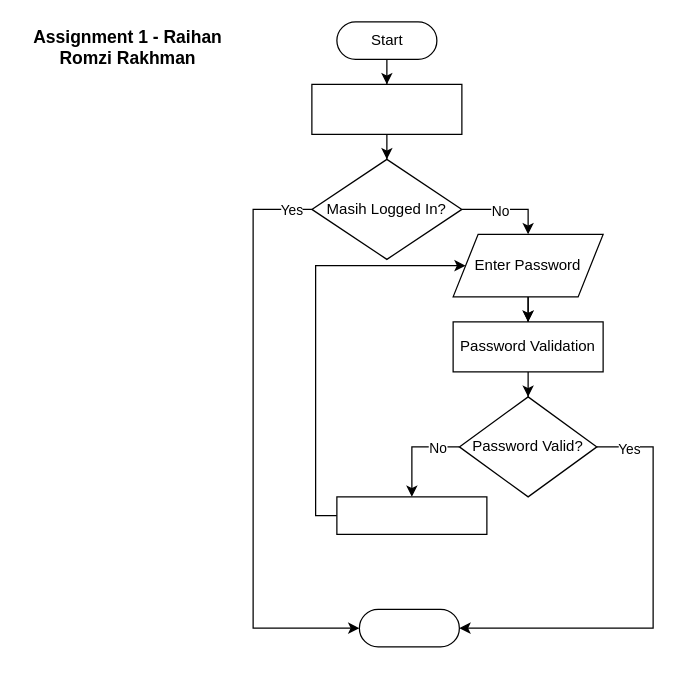
The diagram is 685 pixels wide and 679 high, and some of its shapes have lost their labels. The shapes that lost their labels are listed below. From the top down, each one's centre as x and y in pixels, then its label:
At (x=386, y=108): "Buka Website".
At (x=411, y=515): "Show Alert".
At (x=408, y=627): "End".
